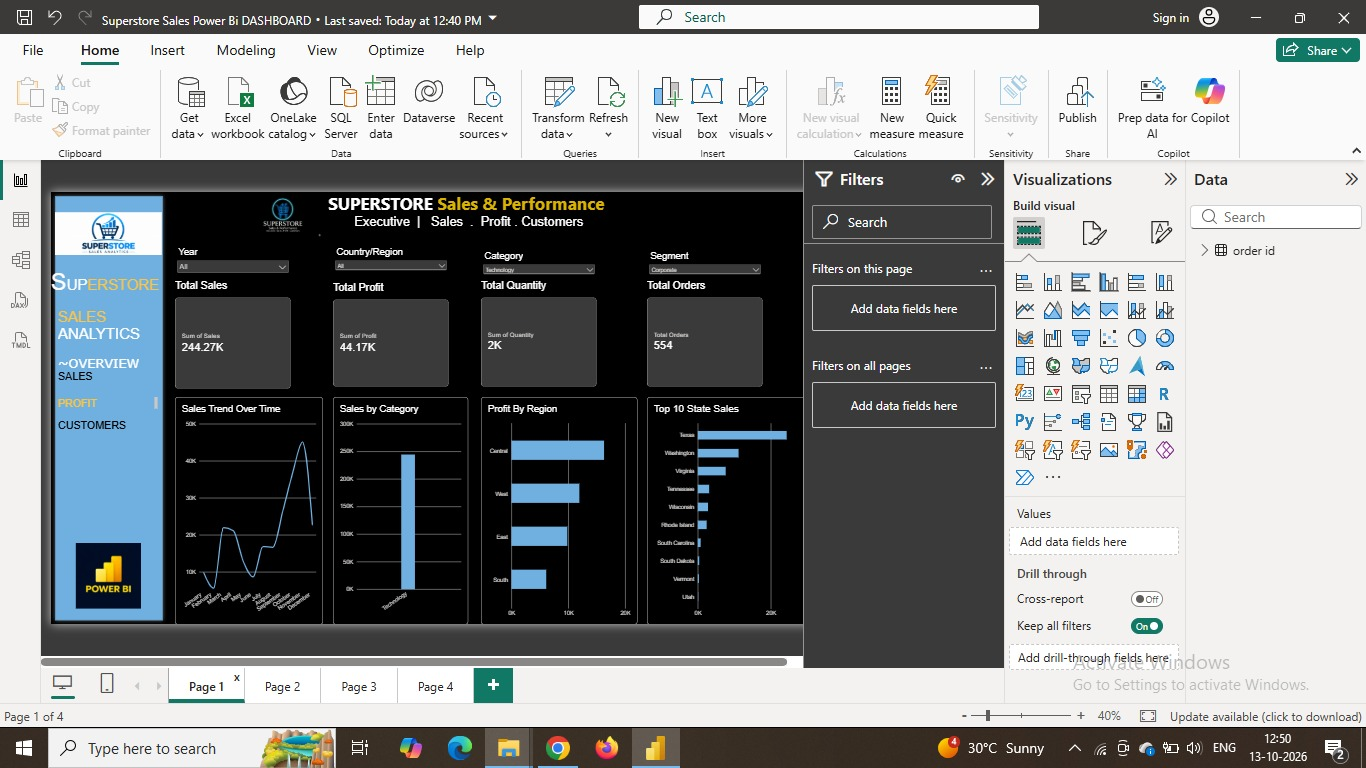

What the dashboard file says about the page in this screenshot:
{"tool":"powerbi","page":{"name":"Page 1","canvas":[1920,1080],"ordinal":0},"visuals":[{"type":"shape","box":[0,0,289.8,1080.9],"z":0},{"type":"textbox","box":[491.3,0,1103.6,115.9],"z":1000},{"type":"slicer","fields":{"Values":["Orders.Order Date.Variation.Date Hierarchy.Year"]},"box":[309.9,136.1,289.8,70.6],"z":2000},{"type":"slicer","fields":{"Values":["Orders.Country/Region"]},"box":[705.5,136.1,289.8,70.6],"z":3000},{"type":"slicer","fields":{"Values":["Orders.Category"]},"box":[1075.9,146.1,289.8,70.6],"z":4000},{"type":"slicer","fields":{"Values":["Orders.Segment"]},"box":[1489.1,146.1,289.8,83.1],"z":5000},{"type":"cardVisual","title":"Total Sales","fields":{"Data":["Sum(Orders.Sales)"]},"box":[309.9,216.7,289.8,274.6],"z":6000},{"type":"cardVisual","title":"Total Profit","fields":{"Data":["Sum(Orders.Profit)"]},"box":[705.5,221.7,289.8,264.6],"z":7000},{"type":"cardVisual","title":"Total Quantity","fields":{"Data":["Sum(Orders.Quantity)"]},"box":[1075.9,216.7,289.8,269.6],"z":8000},{"type":"cardVisual","title":"Total Orders","fields":{"Data":["order id.Total Orders"]},"box":[1489.1,216.7,289.8,269.6],"z":9000},{"type":"lineChart","title":"Sales Trend Over Time","fields":{"Category":["Order id.Order Date.Variation.Date Hierarchy.Month"],"Y":["Sum(Order id.Sales)"]},"box":[309.9,511.5,370.4,569.4],"z":10000},{"type":"clusteredColumnChart","title":"Sales by Category","fields":{"Category":["Order id.Category"],"Y":["Sum(Order id.Sales)"]},"box":[705.5,511.5,337.6,569.4],"z":11000},{"type":"clusteredBarChart","title":"Profit By Region","fields":{"Category":["Order id.Region"],"Y":["Sum(Order id.Profit)"]},"box":[1075.9,511.5,390.6,569.4],"z":12000},{"type":"clusteredBarChart","title":"Top 10 State Sales","fields":{"Category":["Order id.State"],"Y":["Sum(Order id.Sales)"]},"box":[1489.1,511.5,430.9,569.4],"z":13000},{"type":"textbox","box":[0,189,289.8,100.8],"z":14000},{"type":"textbox","box":[17.6,408.2,272.1,103.3],"z":15000},{"type":"textbox","box":[17.6,511.5,249.4,30.2],"z":16000},{"type":"textbox","box":[17.6,566.9,229.3,75.6],"z":17000},{"type":"textbox","box":[17.6,289.8,249.4,90.7],"z":18000},{"type":"image","box":[478.7,0,201.6,118.4],"z":19000},{"type":"image","box":[10.1,37.8,267.1,133.5],"z":20000},{"type":"image","box":[20.2,876.9,246.9,163.8],"z":21000}]}

Visuals, with their boxes on the page's 1920x1080 design canvas (x1, y1, x2, y2). These are canvas units, not pixel positions in the 1366x768 screenshot, which may show the page scaled, cropped or inside an application window:
shape: 0,0,290,1081
textbox: 491,0,1595,116
slicer - Orders.Order Date.Variation.Date Hierarchy.Year: 310,136,600,207
slicer - Orders.Country/Region: 706,136,995,207
slicer - Orders.Category: 1076,146,1366,217
slicer - Orders.Segment: 1489,146,1779,229
"Total Sales" cardVisual: 310,217,600,491
"Total Profit" cardVisual: 706,222,995,486
"Total Quantity" cardVisual: 1076,217,1366,486
"Total Orders" cardVisual: 1489,217,1779,486
"Sales Trend Over Time" lineChart: 310,512,680,1081
"Sales by Category" clusteredColumnChart: 706,512,1043,1081
"Profit By Region" clusteredBarChart: 1076,512,1466,1081
"Top 10 State Sales" clusteredBarChart: 1489,512,1920,1081
textbox: 0,189,290,290
textbox: 18,408,290,512
textbox: 18,512,267,542
textbox: 18,567,247,642
textbox: 18,290,267,380
image: 479,0,680,118
image: 10,38,277,171
image: 20,877,267,1041
